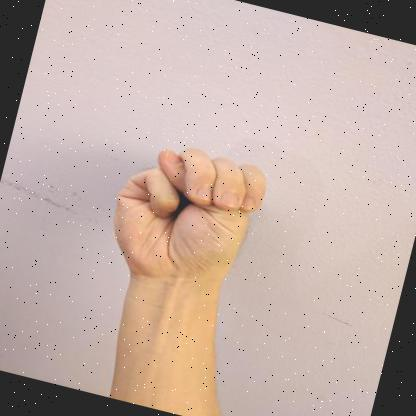M: (113, 147, 266, 292)
